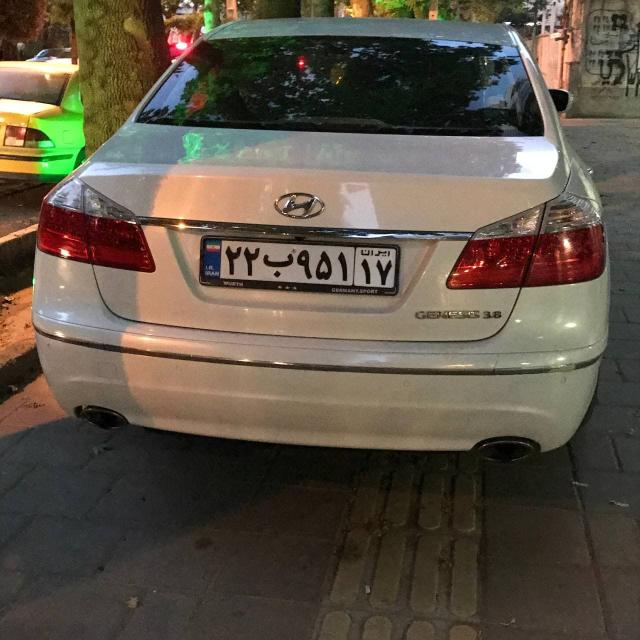Plates: (202, 237, 397, 288)
